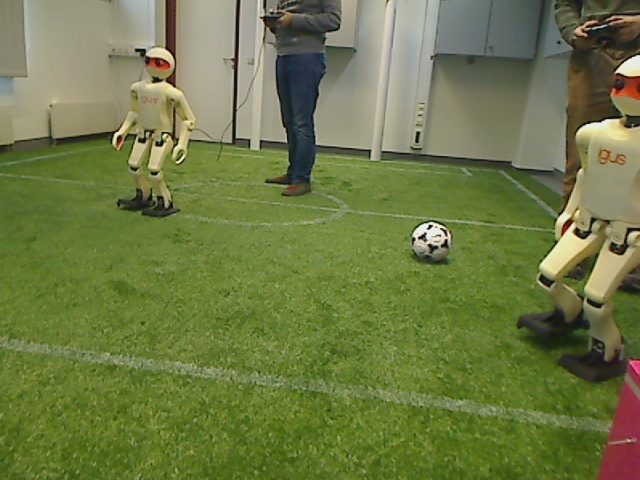ball: (406, 219, 457, 264)
robot: (523, 47, 640, 378), (112, 44, 193, 218)
